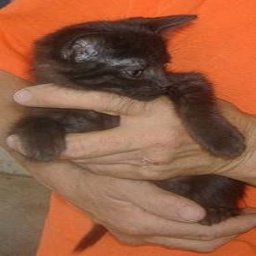cat: (22, 16, 247, 226)
